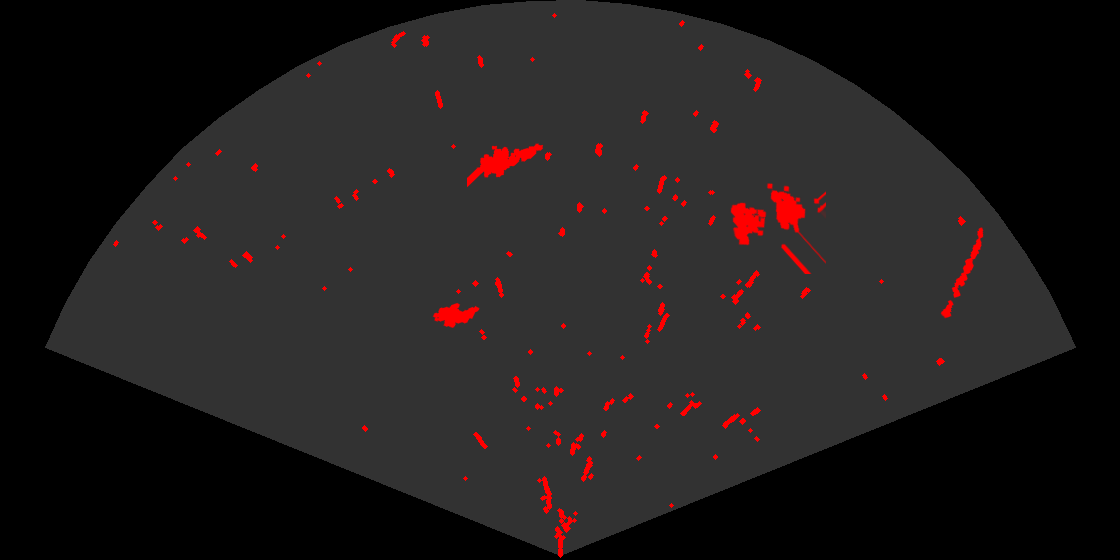AUV: (431, 301, 481, 329)
cage: (729, 181, 826, 274)
chain: (939, 226, 985, 320)
frogman: (467, 142, 545, 189)
